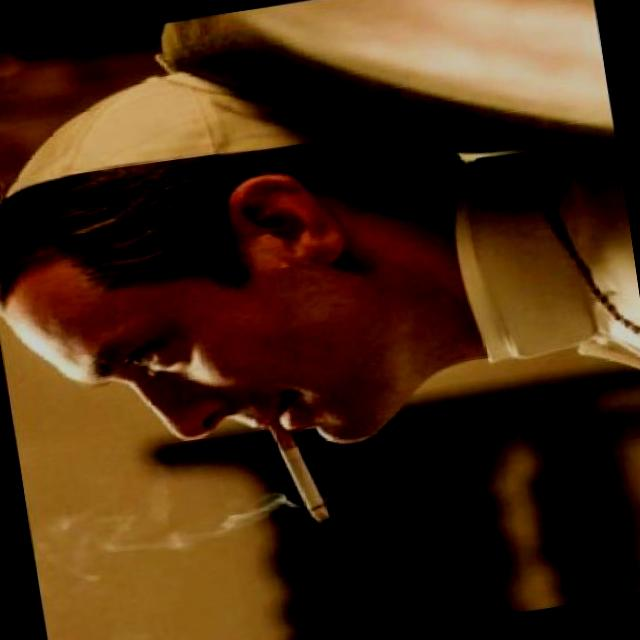cigarette: (260, 410, 334, 528)
